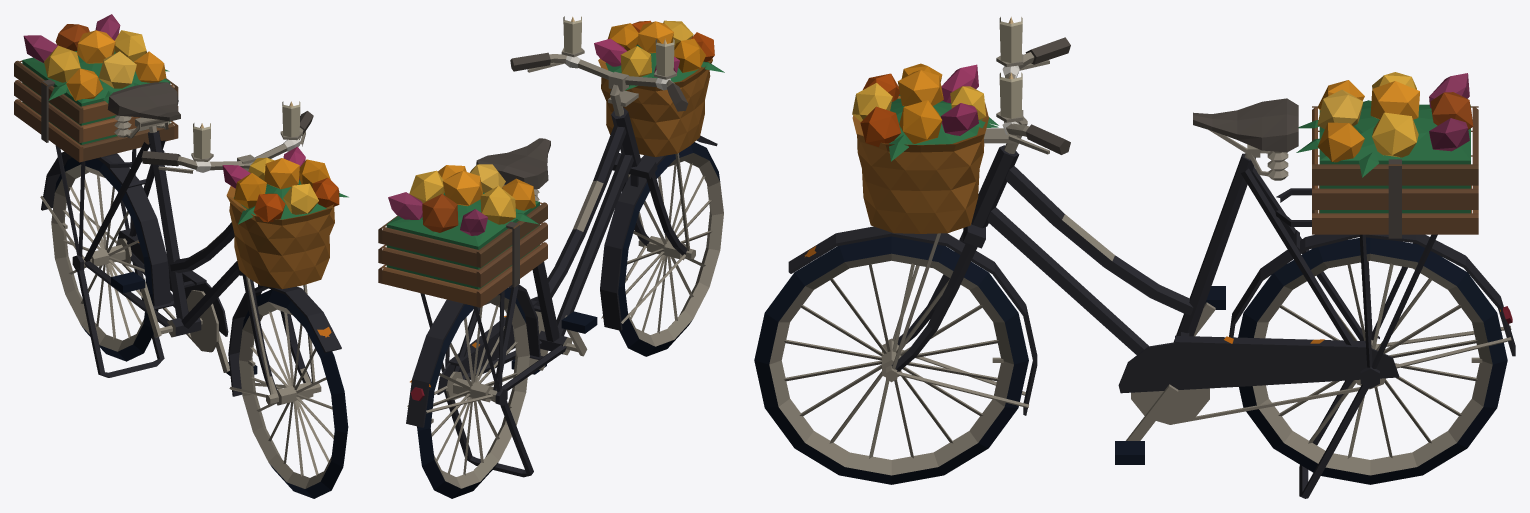
File: flower-bicycle-284d0e.glb
The picture shows the model from 3 angles, left to right: view 1: azimuth 30°, elevation 25°; view 2: azimuth 150°, elevation 25°; view 3: azimuth 270°, elevation 25°; orthographic projection. The views are drawn at different scales.
Parts seen in each view (by area): view 1: flower-bicycle-284d0e; view 2: flower-bicycle-284d0e; view 3: flower-bicycle-284d0e.
Boxes of the visible parts, bbox=[...] form: flower-bicycle-284d0e: bbox=[14, 14, 348, 498]; flower-bicycle-284d0e: bbox=[378, 16, 724, 498]; flower-bicycle-284d0e: bbox=[754, 17, 1515, 498].
Size of the model in its own units: 0.6093 by 1.17 by 1.83.
